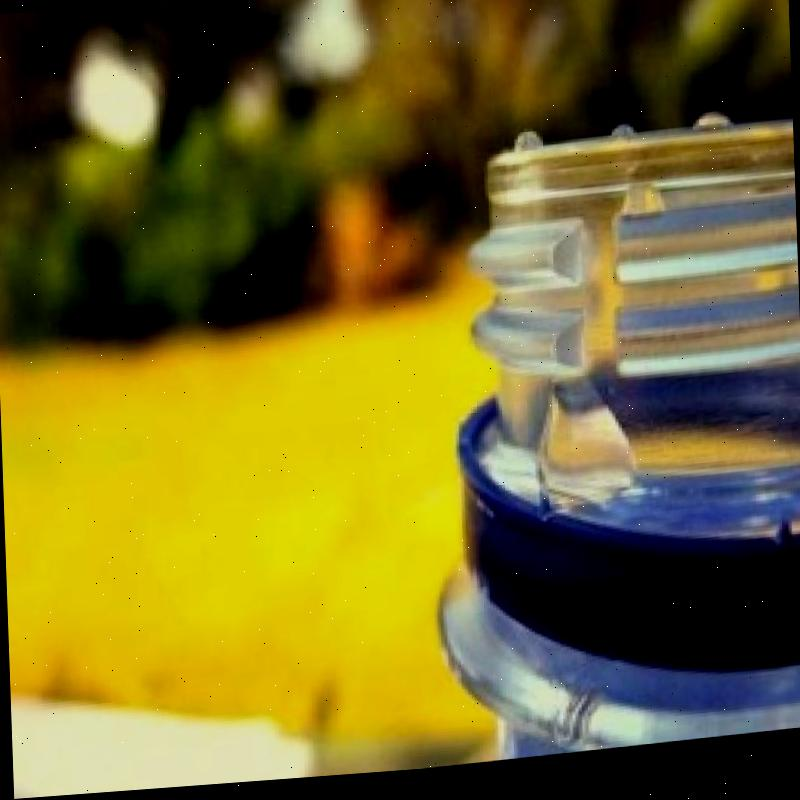botella: (419, 129, 800, 775)
